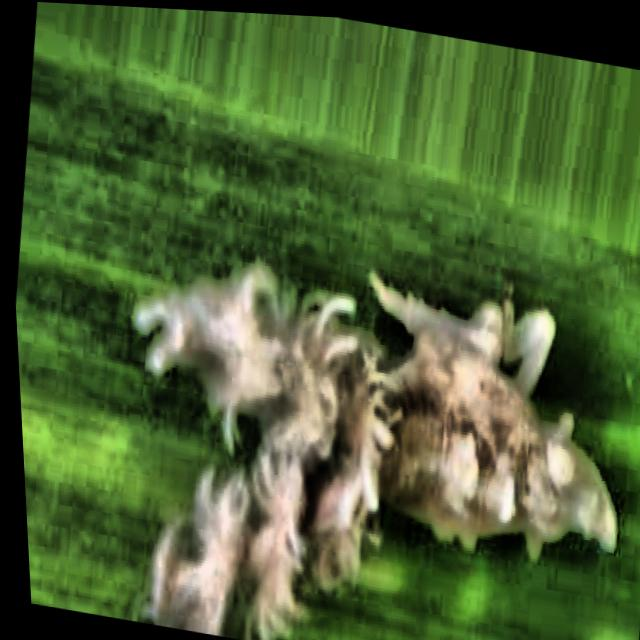Pyrilla-perpusilla: (50, 159, 640, 640)
